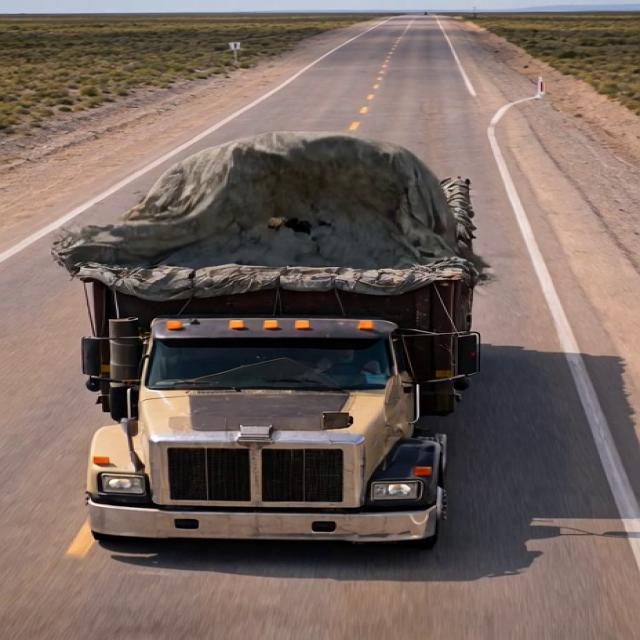trailer: (78, 136, 476, 302)
truck: (48, 133, 505, 557)
